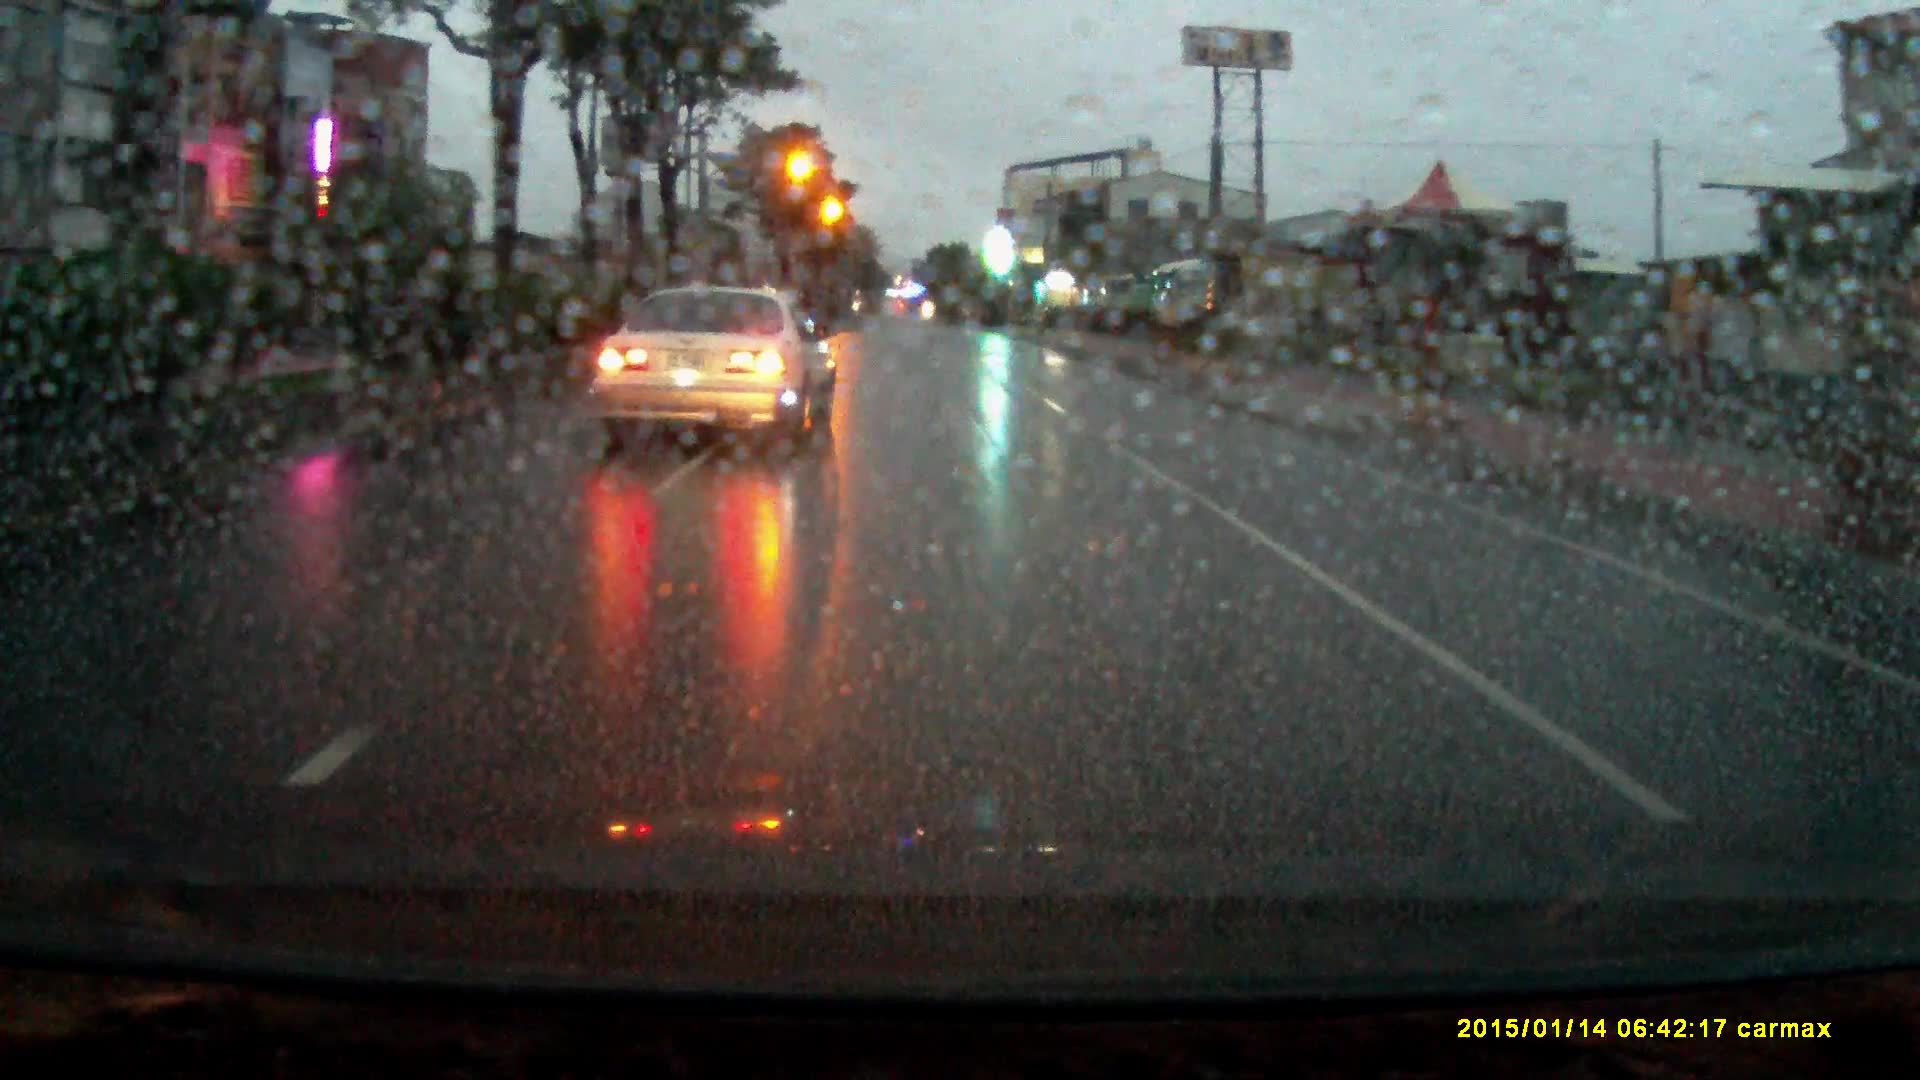vehicle: (585, 287, 843, 460), (1155, 261, 1221, 330), (1095, 276, 1145, 320)
